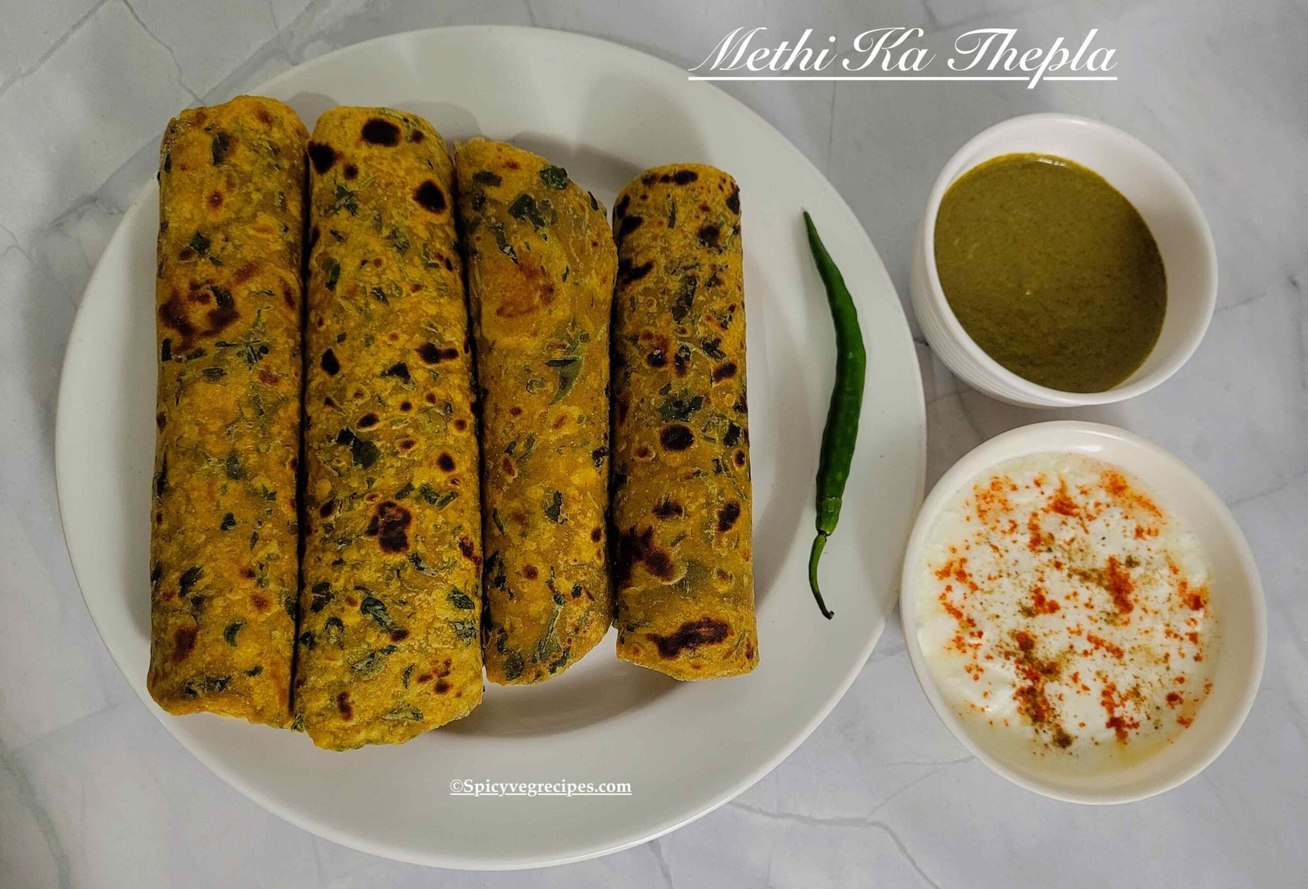thepla: (154, 98, 758, 753)
yogurt: (969, 456, 1204, 763)
